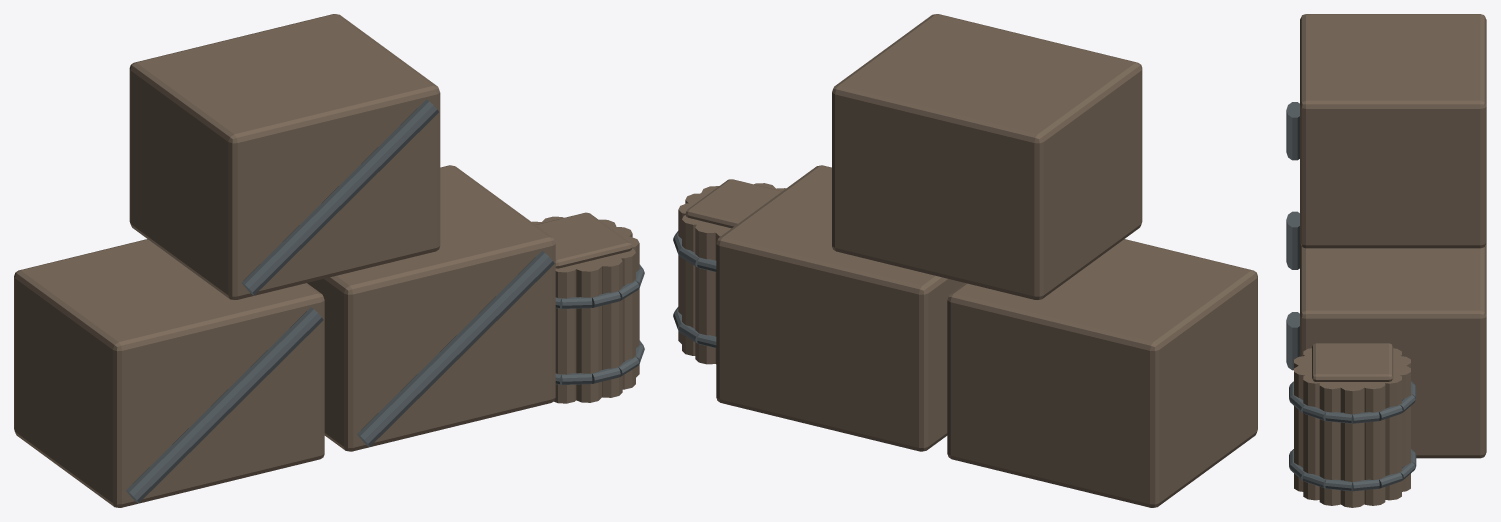
Rendered from cargo.glb.
3 views of the same model, side by side, from view 1: azimuth 30°, elevation 25°; view 2: azimuth 150°, elevation 25°; view 3: azimuth 270°, elevation 25° (orthographic). The views are drawn at different scales.
Parts seen in each view (by area): view 1: Body.058; view 2: Body.058; view 3: Body.058.
Part boxes in pixels (<box>): Body.058: <box>14,14,644,507</box>; Body.058: <box>673,14,1257,507</box>; Body.058: <box>1286,14,1486,507</box>.
Size of the model in its own units: 1.66 by 1.01 by 0.59.
